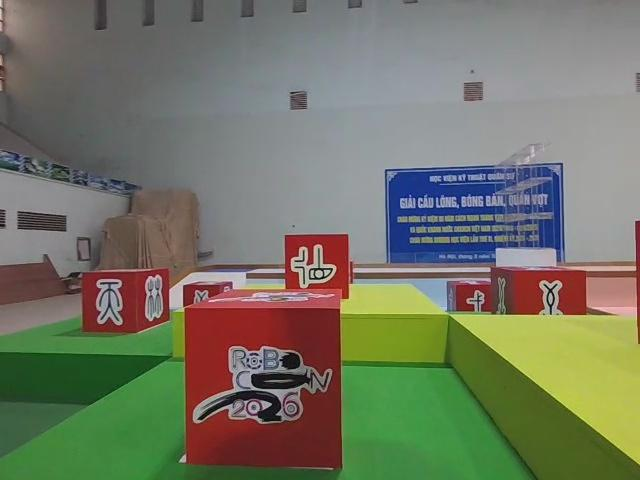R1: (184, 289, 343, 470)
R2 Fake: (81, 271, 169, 337)
R2 Real: (491, 268, 586, 324), (281, 233, 351, 301), (446, 279, 491, 317)
